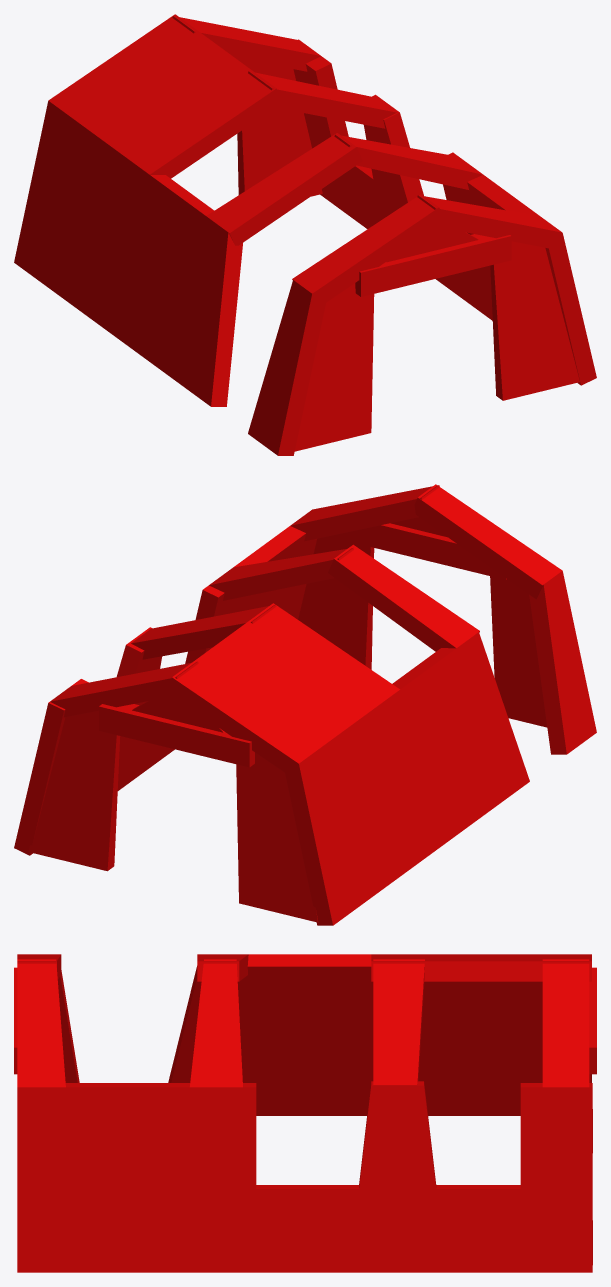
File: SM_Bld_Quarantine_Tent_03_Collision.fbx
The picture shows the model from 3 angles, top to bottom: view 1: azimuth 30°, elevation 25°; view 2: azimuth 150°, elevation 25°; view 3: azimuth 270°, elevation 25°; orthographic projection. The views are drawn at different scales.
Parts seen in each view (by area): view 1: SM_Bld_Quarantine_Tent_03_Collision; view 2: SM_Bld_Quarantine_Tent_03_Collision; view 3: SM_Bld_Quarantine_Tent_03_Collision.
Part boxes in pixels (x1,y1,x2,y2): SM_Bld_Quarantine_Tent_03_Collision: (14,14,596,455); SM_Bld_Quarantine_Tent_03_Collision: (14,484,596,925); SM_Bld_Quarantine_Tent_03_Collision: (14,954,596,1272).
Size of the model in its own units: 521 by 332 by 757.
